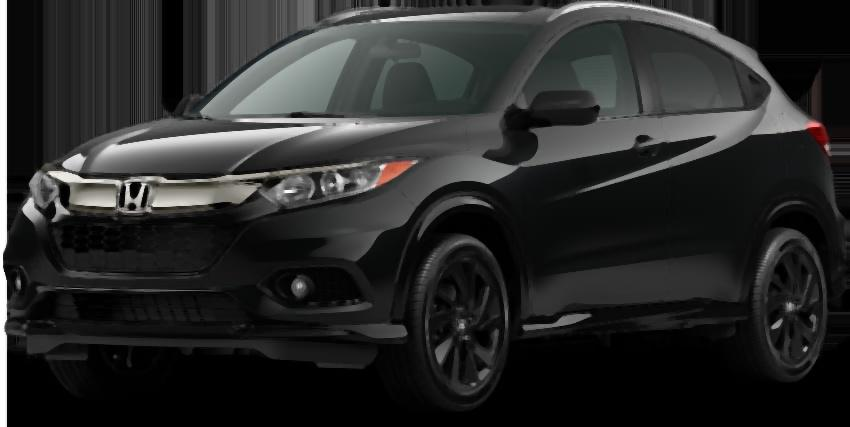Car hood: (45, 109, 473, 180)
Fender - -F-L-: (388, 95, 529, 335)
Fender - -R-L-: (745, 62, 838, 281)
Front bumper: (7, 201, 419, 378)
Headlight - -L-: (255, 154, 422, 214)
Headlight - -R-: (26, 163, 62, 213)
Passenger-s door - -F-L-: (487, 0, 682, 349)
Passenger-s door - -R-L-: (620, 0, 780, 352)
Rear light - -L-: (803, 121, 835, 166)
Side bumper - -L-: (512, 287, 757, 365)
Side mirror - -L-: (494, 88, 601, 139)
